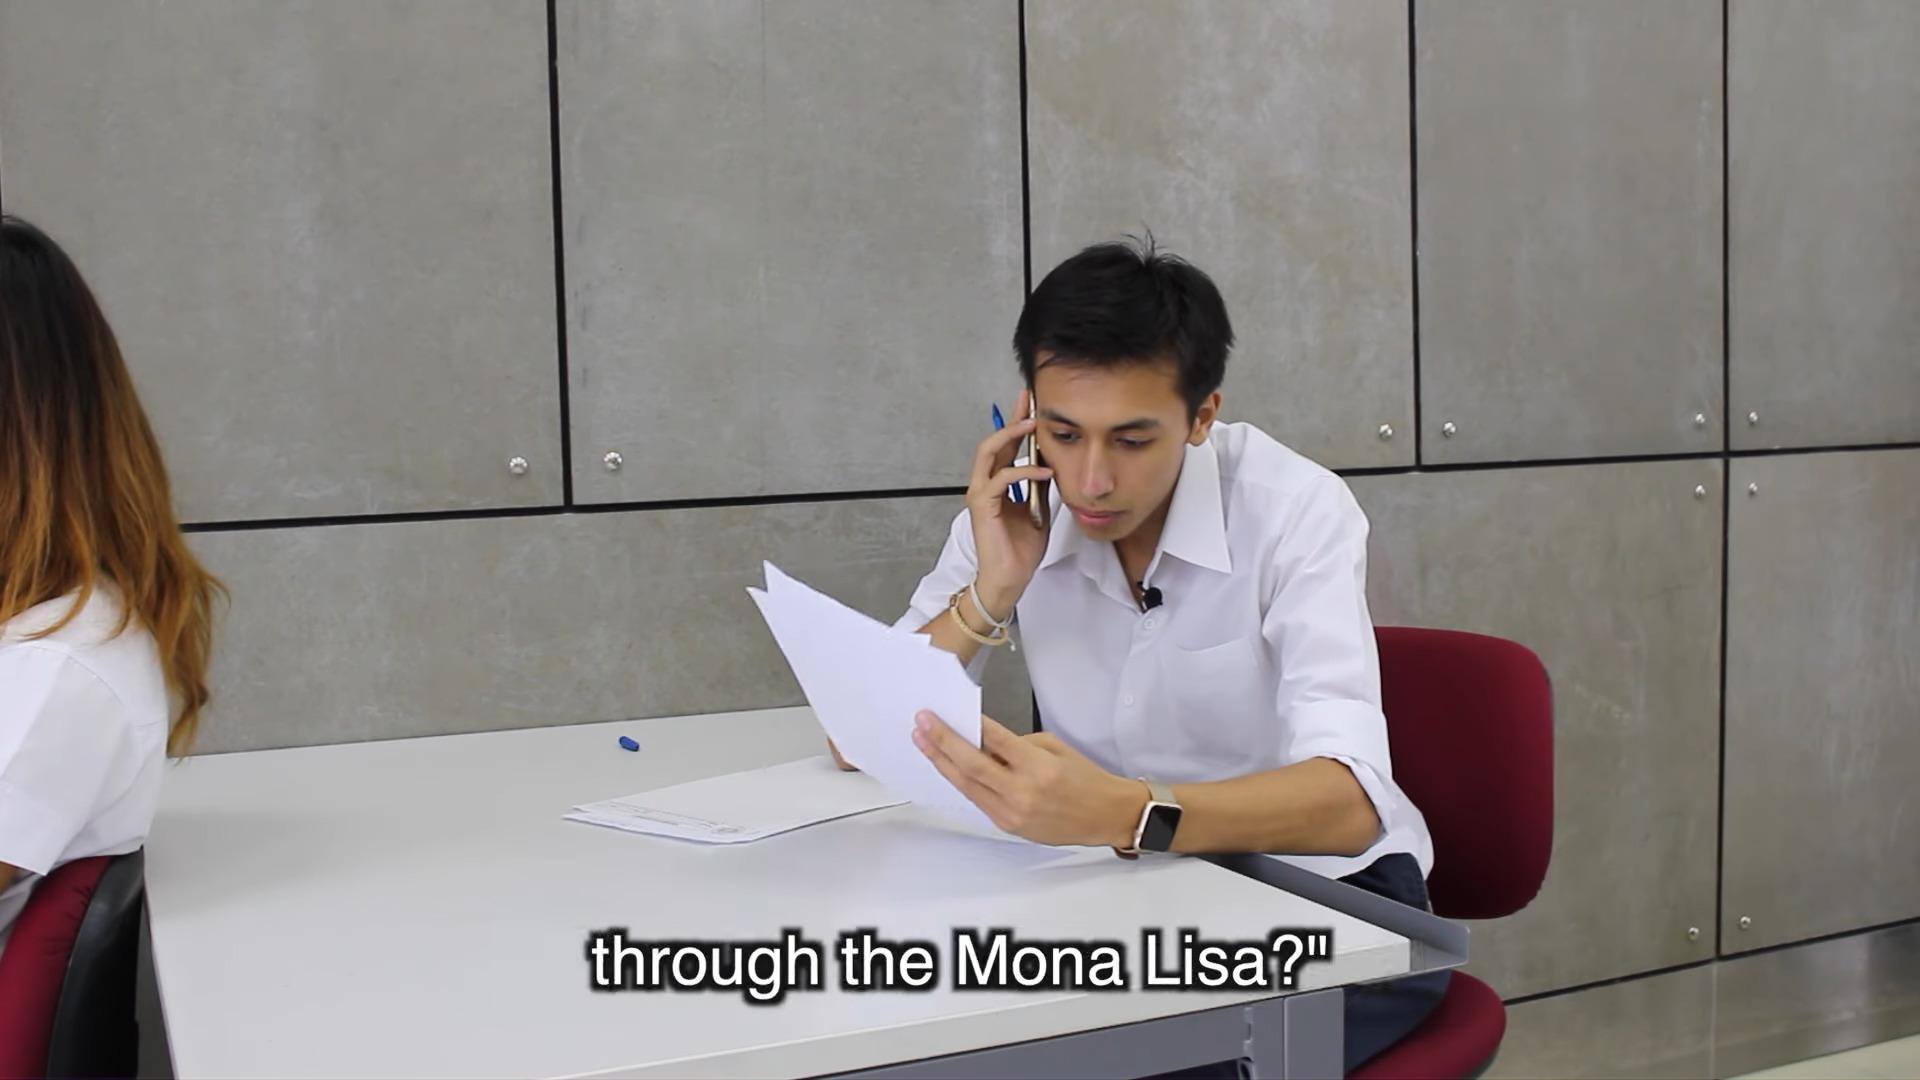cheating: (541, 220, 1448, 893)
